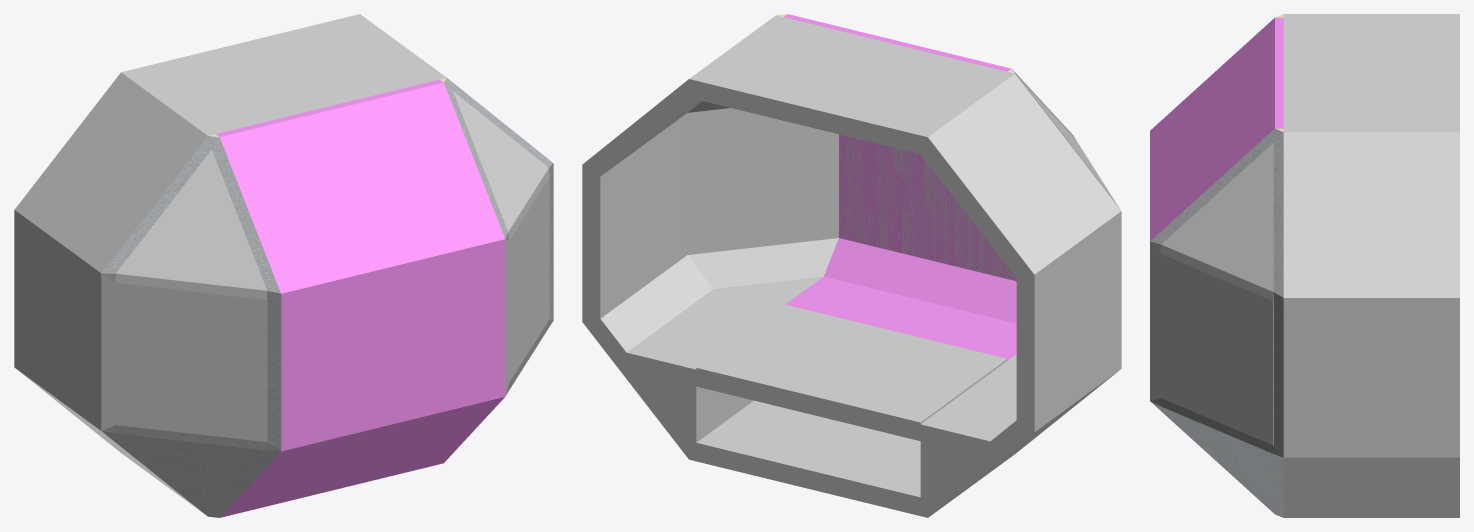
The model's file is MODULO2.fbx.
The picture shows the model from 3 angles, left to right: view 1: azimuth 30°, elevation 25°; view 2: azimuth 150°, elevation 25°; view 3: azimuth 270°, elevation 25°; orthographic projection.
Visible parts, largest first — view 1: Componente_33_3, Componente_31_2, Componente_33_1, Componente_37_1, Componente_31_1, Componente_33_2; view 2: Componente_33_1, Componente_33_2, Componente_33_3, Componente_31_1, Componente_35_1, Componente_37_1, Componente_35_2, Componente_36_1, Componente_31_2; view 3: Componente_33_2, Componente_31_1, Componente_37_1, Componente_33_3, Componente_33_1.
Part boxes in pixels (x1,y1,x2,y2): Componente_33_3: [215, 79, 505, 517]; Componente_31_2: [101, 134, 281, 517]; Componente_33_1: [14, 70, 214, 513]; Componente_37_1: [128, 16, 439, 133]; Componente_31_1: [440, 77, 553, 396]; Componente_33_2: [353, 14, 446, 79]; Componente_33_1: [920, 72, 1121, 517]; Componente_33_2: [582, 15, 782, 461]; Componente_33_3: [784, 14, 1016, 359]; Componente_31_1: [687, 14, 838, 305]; Componente_35_1: [696, 304, 1007, 440]; Componente_37_1: [696, 17, 1007, 153]; Componente_35_2: [696, 400, 920, 515]; Componente_36_1: [839, 136, 1016, 280]; Componente_31_2: [1008, 69, 1119, 362]; Componente_33_2: [1283, 128, 1459, 517]; Componente_31_1: [1150, 128, 1283, 517]; Componente_37_1: [1283, 17, 1459, 128]; Componente_33_3: [1150, 17, 1283, 241]; Componente_33_1: [1283, 14, 1459, 17].
Bounding box in the file's own units: 5.05 × 4.06 × 2.96.
